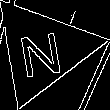N_N: (18, 22, 68, 78)
